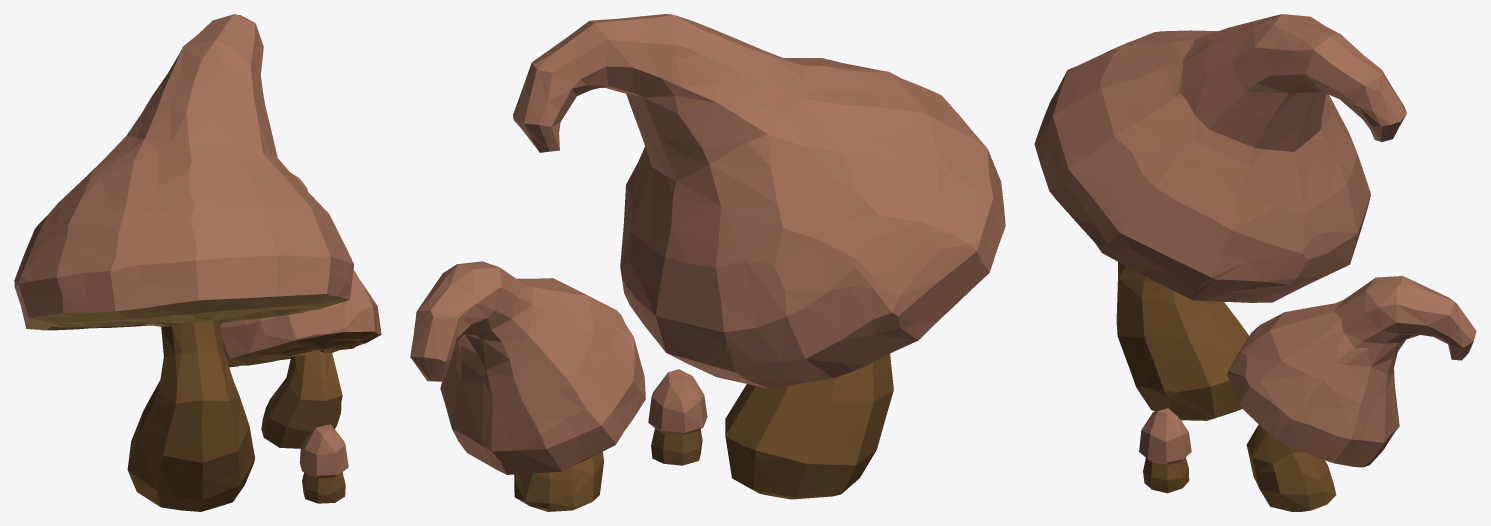
The model's file is prop_shrooms.glb.
3 renders of one model, left to right at view 1: azimuth 30°, elevation 25°; view 2: azimuth 150°, elevation 25°; view 3: azimuth 270°, elevation 25°, orthographic. The views are drawn at different scales.
Visible parts, largest first — view 1: PropShroomsBody; view 2: PropShroomsBody; view 3: PropShroomsBody.
Part boxes in pixels (x1,y1,x2,y2): PropShroomsBody: (14,14,381,511); PropShroomsBody: (410,14,1005,511); PropShroomsBody: (1034,14,1476,511).
Size of the model in its own units: 0.9534 by 0.9969 by 0.8943.
